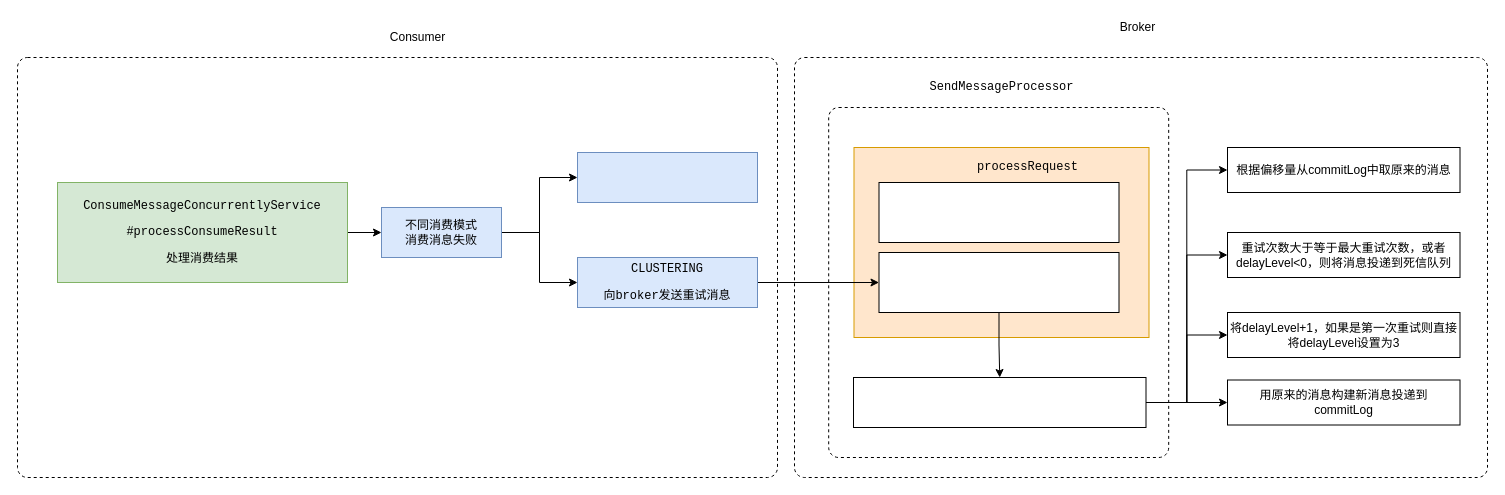
The diagram is 1505 pixels wide and 495 high, and some of its shapes have lost their labels. The shapes that lost their labels are listed below. From the top down, each one's centre as x and y in pixels, then its label:
the point at 667,177: BROADCASTING 广播消息不会重试，直接丢失
the point at 998,212: code != CONSUMER_SEND_MSG_BACK 普通消息处理逻辑
the point at 998,282: code = CONSUMER_SEND_MSG_BACK 重试消息处理逻辑
the point at 999,402: asyncConsumerSendMsgBack
